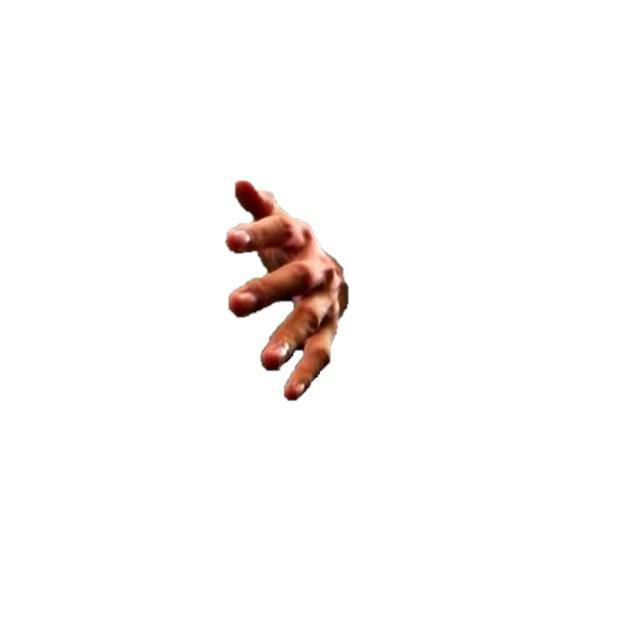pa-: (224, 179, 350, 403)
